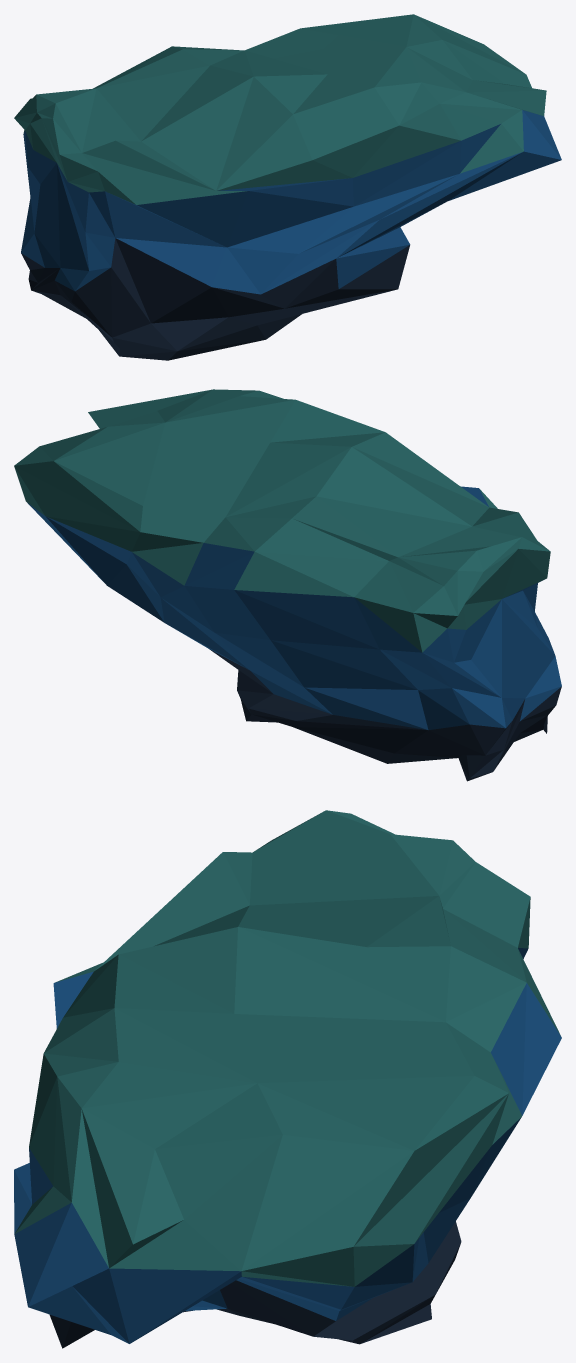
File: rock018.FBX
The picture shows the model from 3 angles, top to bottom: view 1: azimuth 30°, elevation 25°; view 2: azimuth 150°, elevation 25°; view 3: azimuth 270°, elevation 25°; orthographic projection. The views are drawn at different scales.
Visible parts, largest first — view 1: rock_018; view 2: rock_018; view 3: rock_018.
Boxes of the visible parts, x1=… form: rock_018: x1=14, y1=14, x2=561, y2=360; rock_018: x1=14, y1=389, x2=561, y2=781; rock_018: x1=14, y1=810, x2=561, y2=1348.
Size of the model in its own units: 16 by 7.97 by 9.59.
